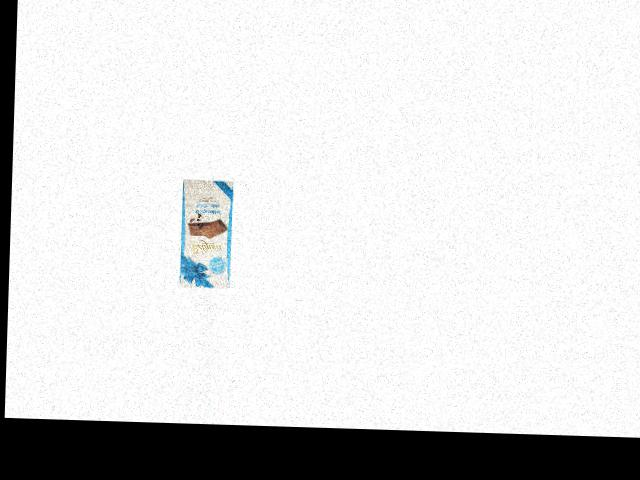chocolate: (172, 176, 237, 289)
